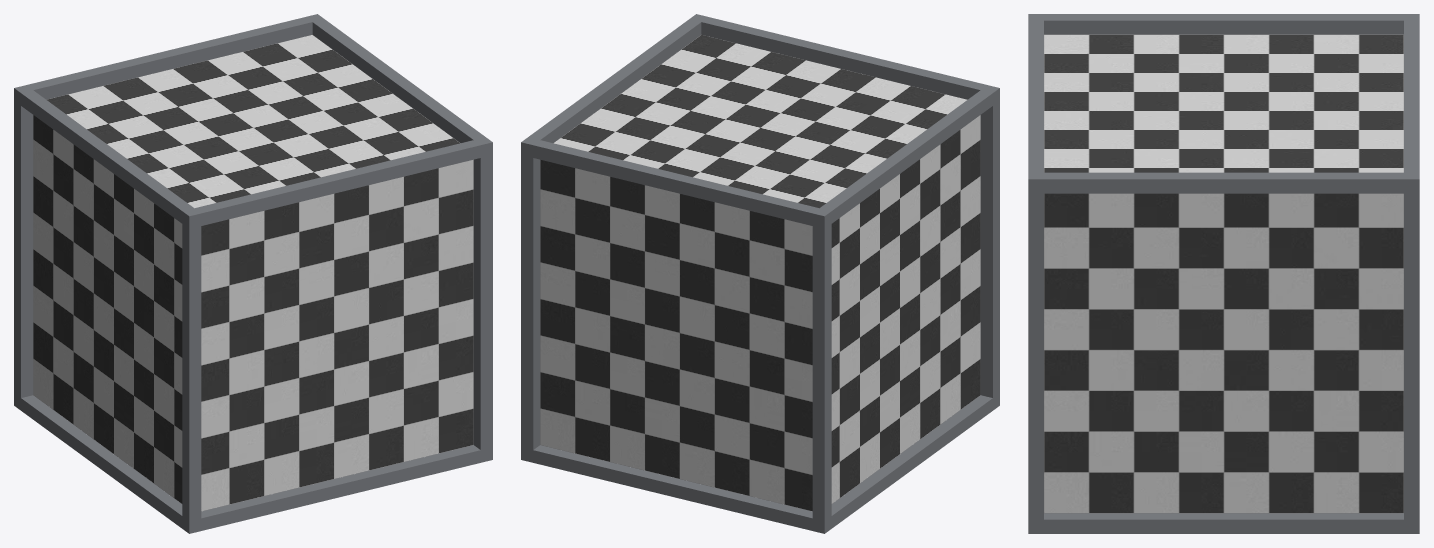
The model's file is modular-greybox-architecture-kit-reference-cube-1m-1a16b46c__22904.glb.
3 views of the same model, side by side, from view 1: azimuth 30°, elevation 25°; view 2: azimuth 150°, elevation 25°; view 3: azimuth 270°, elevation 25° (orthographic). The views are drawn at different scales.
Visible parts, largest first — view 1: reference-cube-1m; view 2: reference-cube-1m; view 3: reference-cube-1m.
Part boxes in pixels (box(x1,y1,x2,y2)): reference-cube-1m: box(14, 14, 492, 533); reference-cube-1m: box(521, 14, 999, 533); reference-cube-1m: box(1028, 14, 1419, 533).
Size of the model in its own units: 1 by 1 by 1.
Materials: 2 (1 with a texture image).
